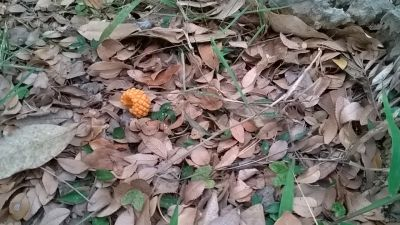eggs: (120, 88, 151, 118)
